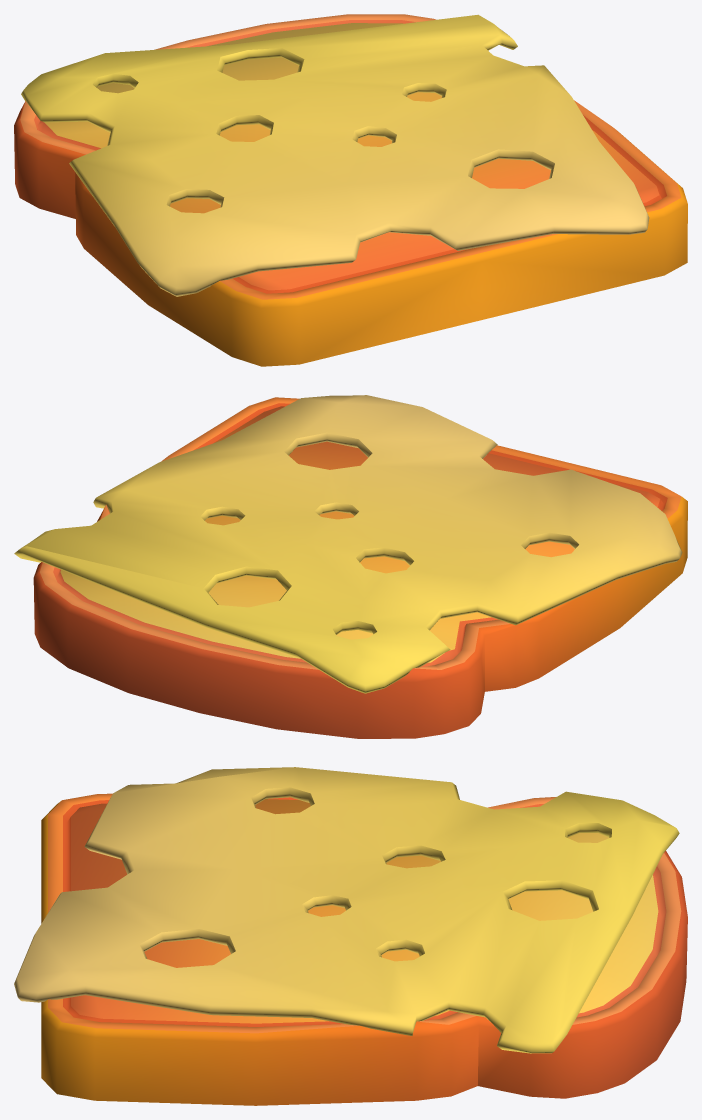
The model's file is sandwich_002.fbx.
3 renders of one model, top to bottom at view 1: azimuth 30°, elevation 25°; view 2: azimuth 150°, elevation 25°; view 3: azimuth 270°, elevation 25°, orthographic. The views are drawn at different scales.
Parts seen in each view (by area): view 1: sandwich_002; view 2: sandwich_002; view 3: sandwich_002.
Part boxes in pixels (x1,y1,x2,y2): sandwich_002: (14,14,687,366); sandwich_002: (14,395,687,738); sandwich_002: (14,767,687,1105).
Bounding box in the file's own units: 14.24 × 14.79 × 2.33.
